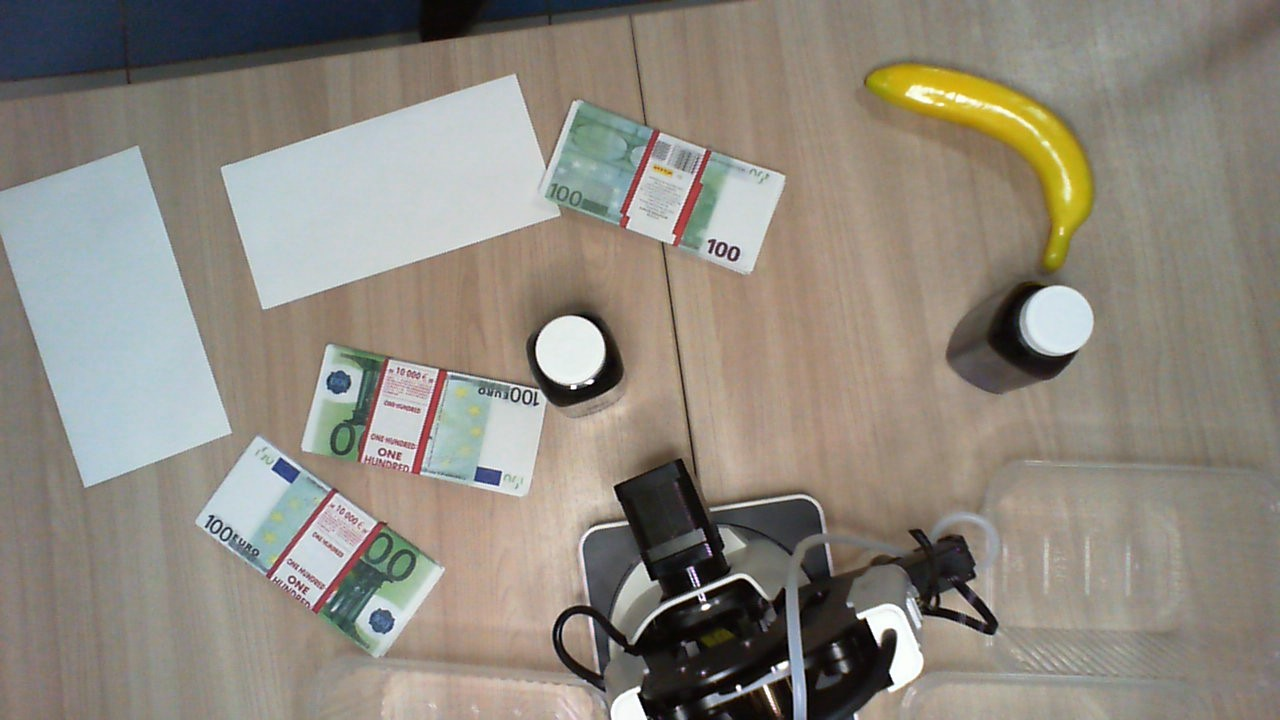banana: (864, 55, 1100, 268)
bottle: (993, 272, 1097, 380), (528, 310, 623, 415)
convert: (221, 68, 555, 313), (1, 142, 234, 490)
money: (196, 435, 448, 659), (538, 102, 798, 262), (298, 342, 548, 494)
